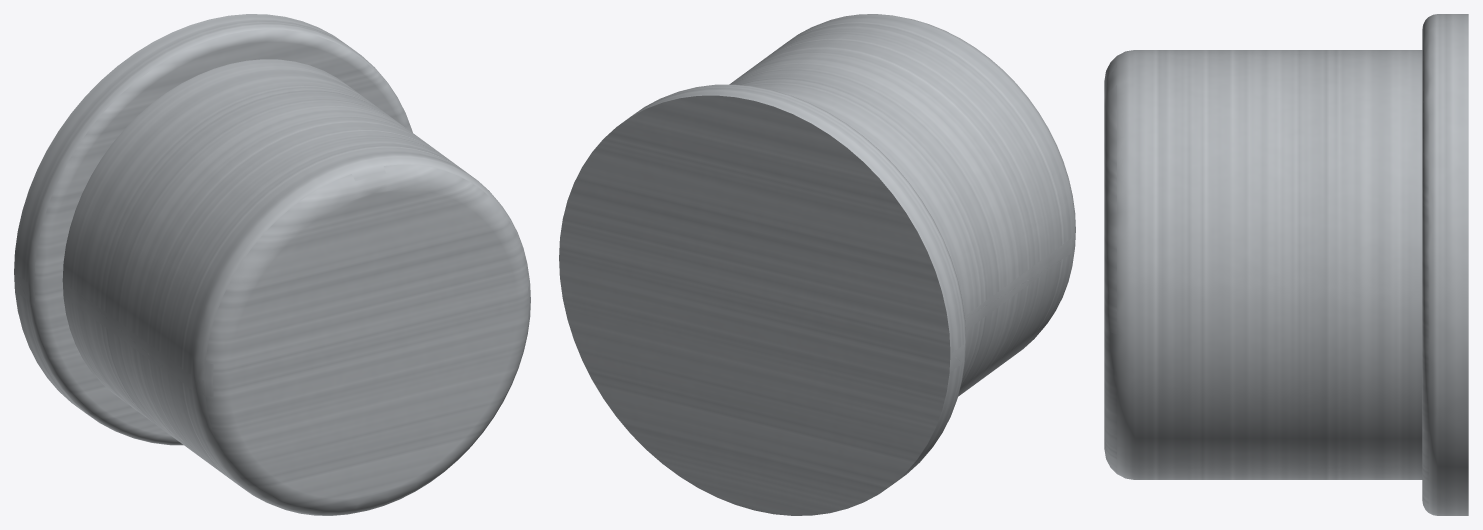
Rendered from lock_housing.obj.
3 renders of one model, left to right at view 1: azimuth 30°, elevation 25°; view 2: azimuth 150°, elevation 25°; view 3: azimuth 270°, elevation 25°, orthographic. The views are drawn at different scales.
Parts seen in each view (by area): view 1: lock_housing; view 2: lock_housing; view 3: lock_housing.
Boxes of the visible parts, bbox=[...] form: lock_housing: bbox=[14, 14, 530, 515]; lock_housing: bbox=[559, 14, 1075, 515]; lock_housing: bbox=[1104, 14, 1468, 515].
Size of the model in its own units: 0.098 by 0.098 by 0.071.
1 material, 1 textured.
